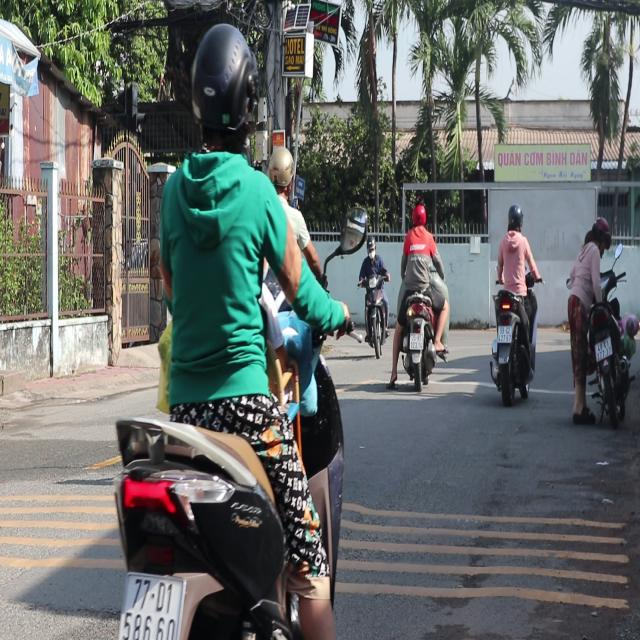helmet: (188, 22, 256, 160), (267, 145, 294, 197), (505, 204, 523, 232), (410, 201, 426, 229)
licenseplate: (103, 17, 354, 637), (388, 201, 449, 390), (489, 201, 539, 402)
nohelmet: (119, 571, 185, 638), (497, 326, 511, 344), (409, 332, 423, 349)
